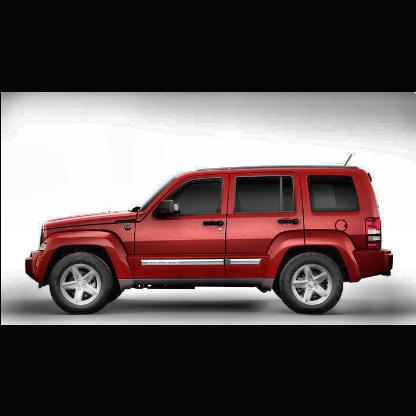Jeep Liberty SUV 2012: (26, 154, 395, 318)
